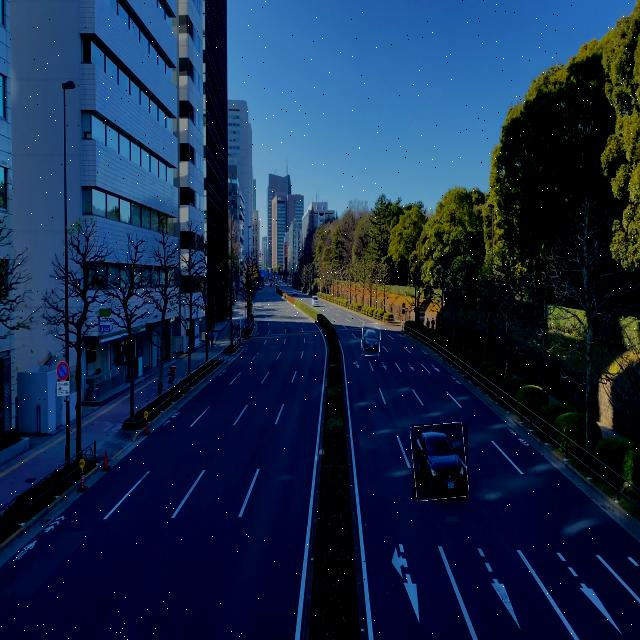Car: (412, 424, 468, 500), (362, 324, 380, 356)
